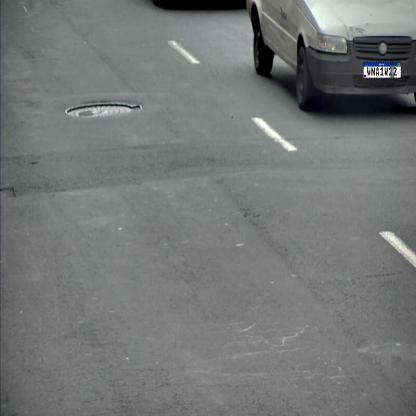PlacaM: (363, 62, 401, 78)
